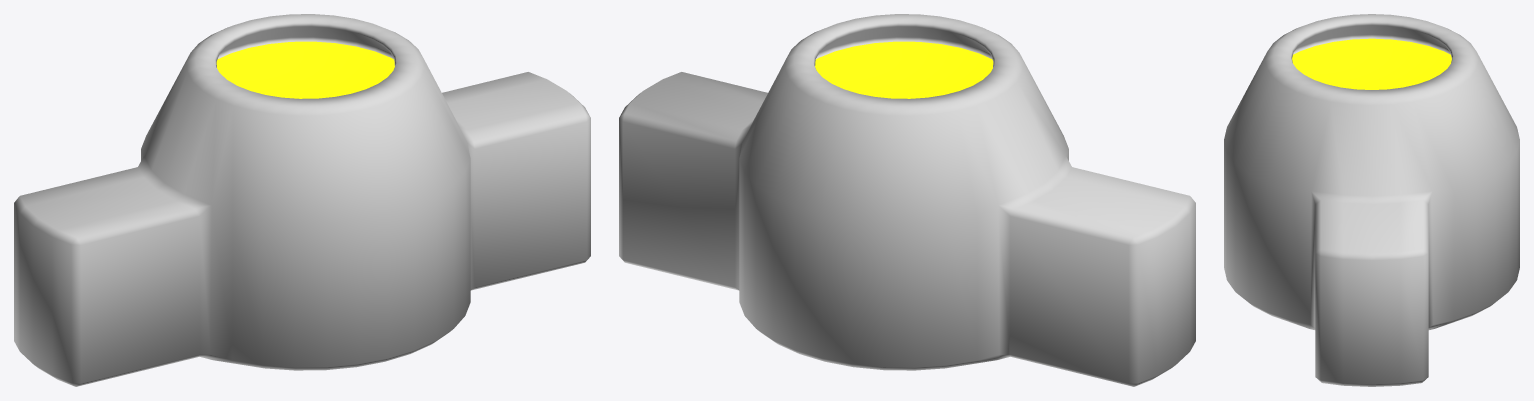
File: state.fbx
3 views of the same model, side by side, from view 1: azimuth 30°, elevation 25°; view 2: azimuth 150°, elevation 25°; view 3: azimuth 270°, elevation 25° (orthographic). The views are drawn at different scales.
Parts seen in each view (by area): view 1: Cylinder; view 2: Cylinder; view 3: Cylinder.
Part boxes in pixels (left/top/right/bottom): Cylinder: left=14, top=14, right=590, bottom=386; Cylinder: left=619, top=14, right=1195, bottom=386; Cylinder: left=1224, top=14, right=1519, bottom=386.
Bounding box in the file's own units: 376 × 162 × 200.
